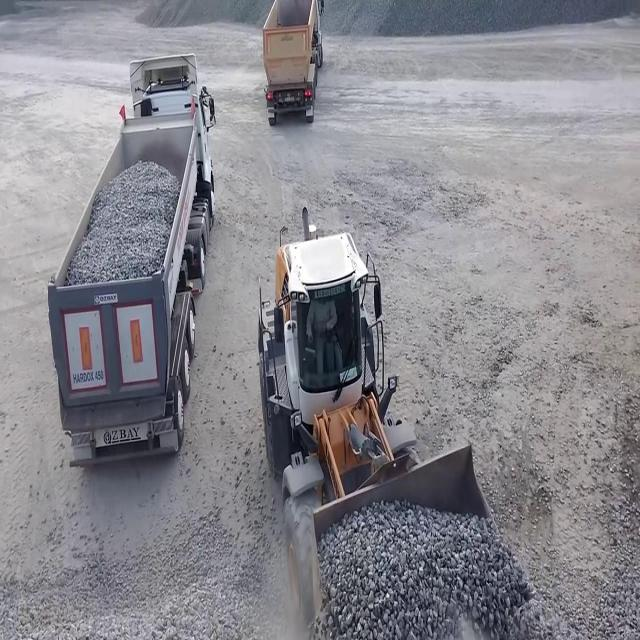Dump Truck: (46, 51, 218, 469), (262, 0, 324, 128)
Loader: (256, 208, 516, 639)
